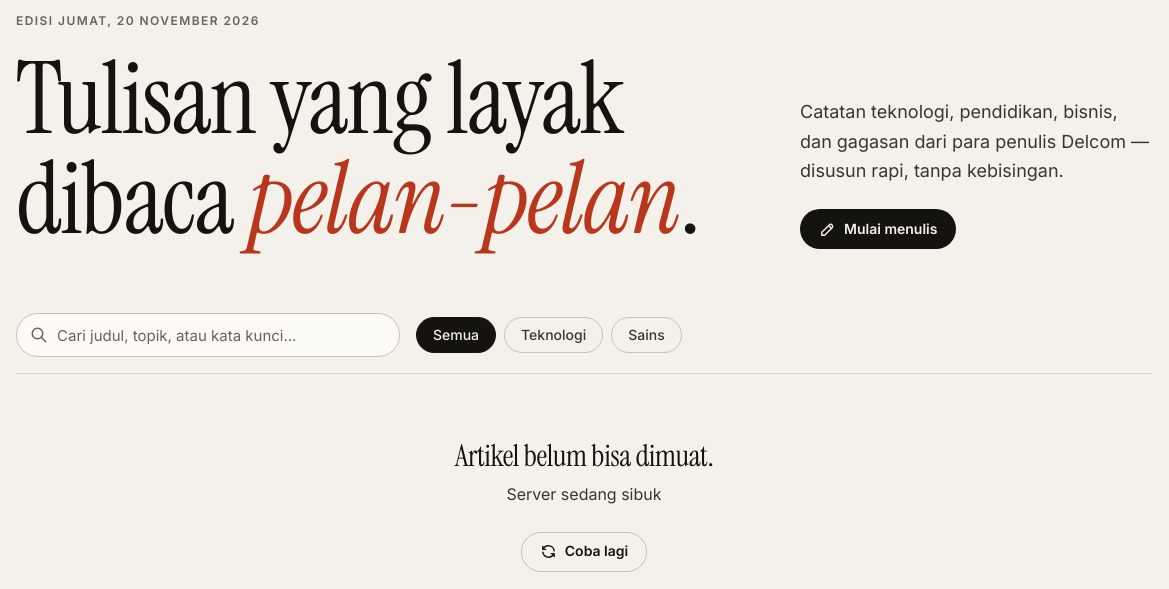
Scenario: PublicArticleList › shows an error with retry
Expected: the message shows "Server sedang sibuk", [506,484,662,504]
Click the button "Coba lagi": (584, 552) [521,532,647,572]
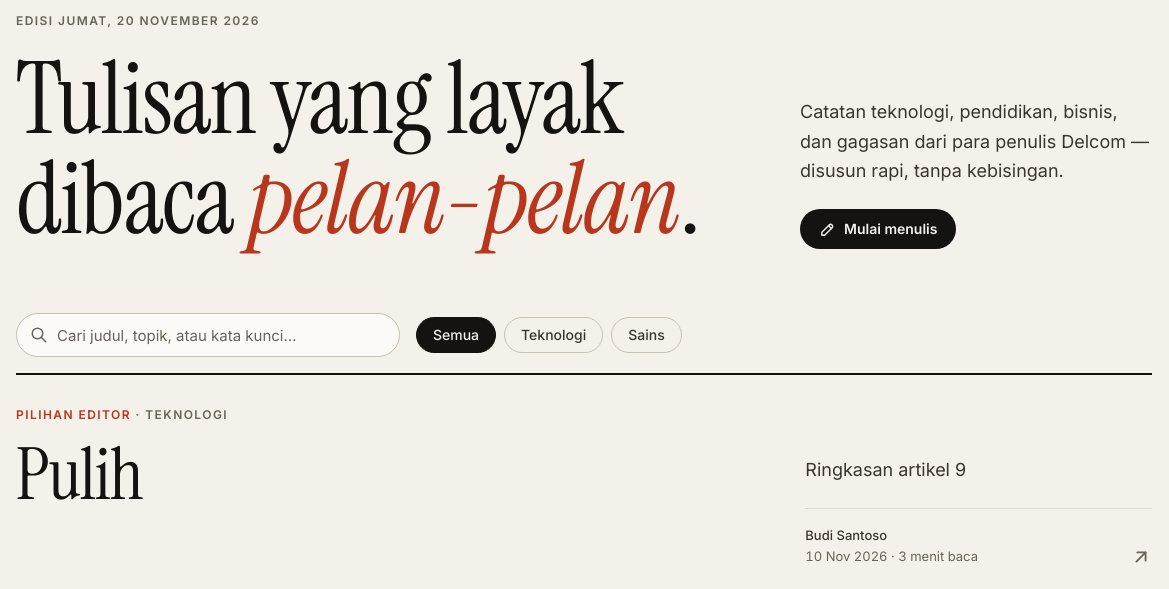
Result: the heading "Pulih" is shown at [16,428,143,521]
